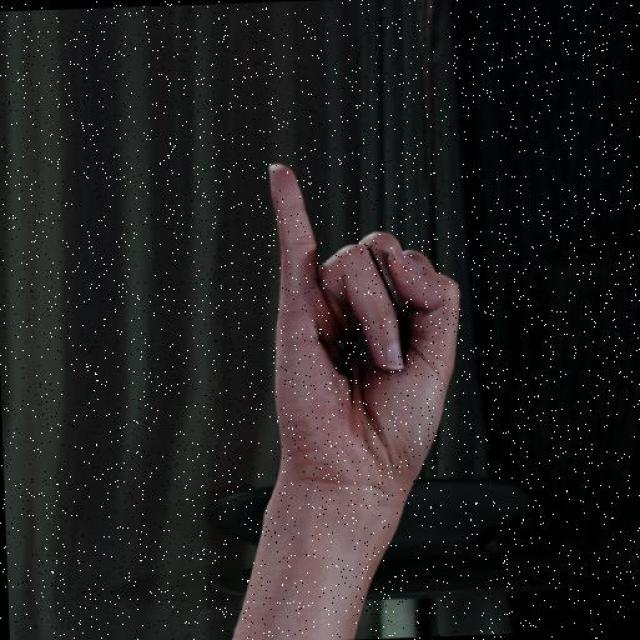I: (263, 152, 471, 473)
